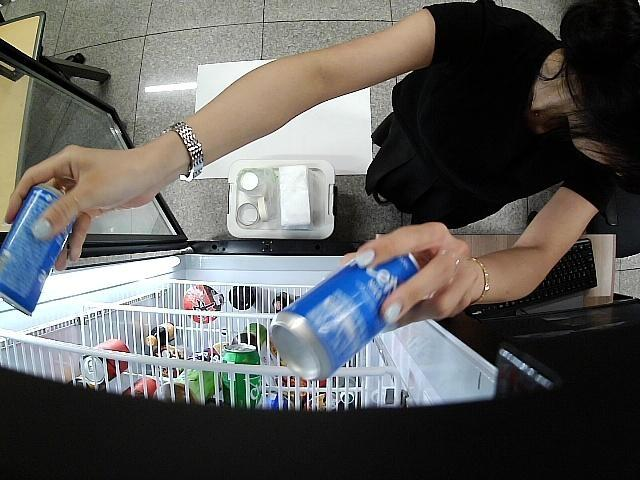15_letsbe: (266, 249, 419, 380), (0, 183, 77, 318)
